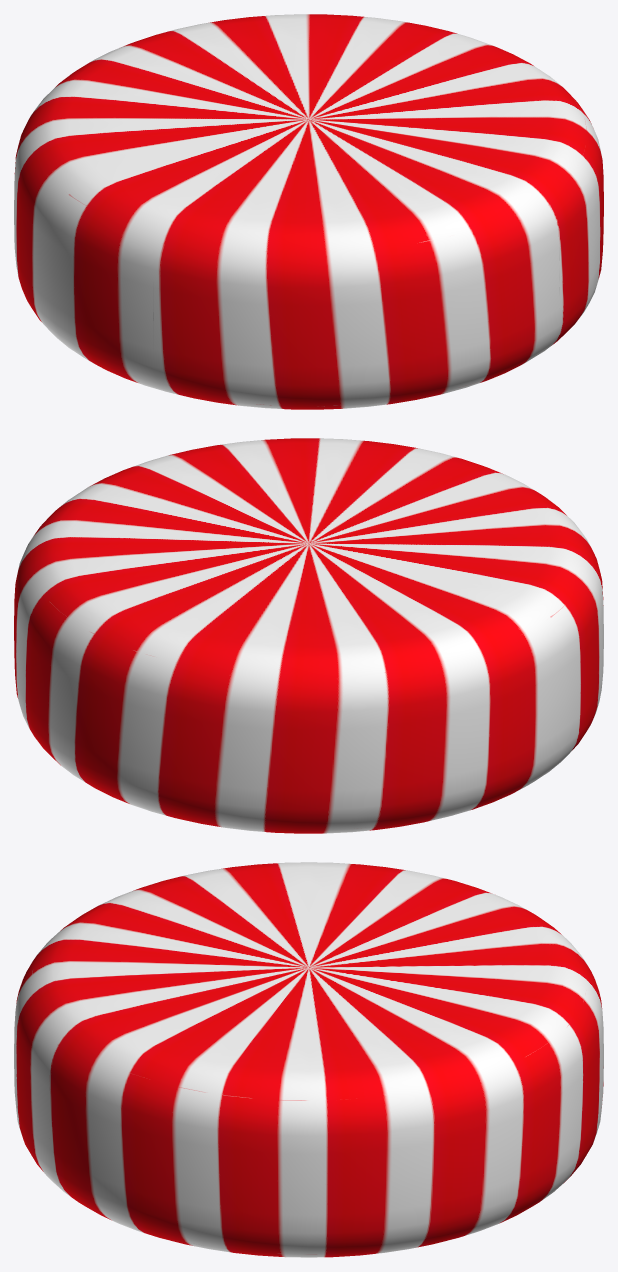
Rendered from peppermint_candy.glb.
The picture shows the model from 3 angles, top to bottom: view 1: azimuth 30°, elevation 25°; view 2: azimuth 150°, elevation 25°; view 3: azimuth 270°, elevation 25°; orthographic projection.
Parts seen in each view (by area): view 1: Circle; view 2: Circle; view 3: Circle.
Boxes of the visible parts, x1,y1,x2,y2 form: Circle: (14, 14, 603, 409); Circle: (14, 438, 603, 833); Circle: (14, 862, 603, 1257).
Bounding box in the file's own units: 1.99 × 0.6894 × 1.99.
1 material, 1 textured.
